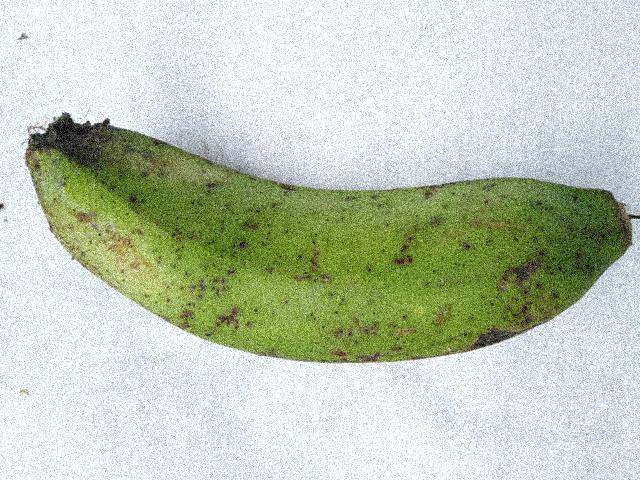rotten: (447, 305, 573, 384), (26, 109, 131, 179)
unripe: (10, 96, 639, 371)
